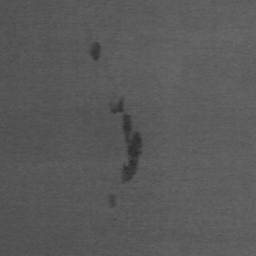Iron scale compression: (110, 95, 143, 184), (90, 43, 101, 62), (109, 194, 116, 209)
